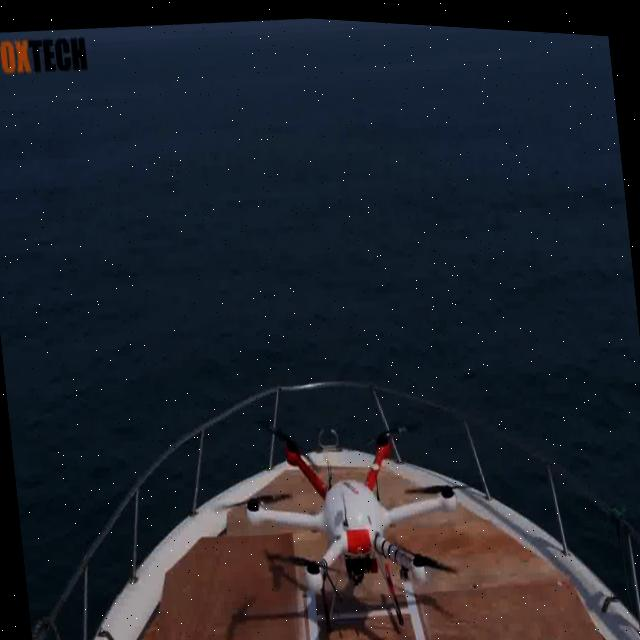drone: (7, 342, 640, 640)
